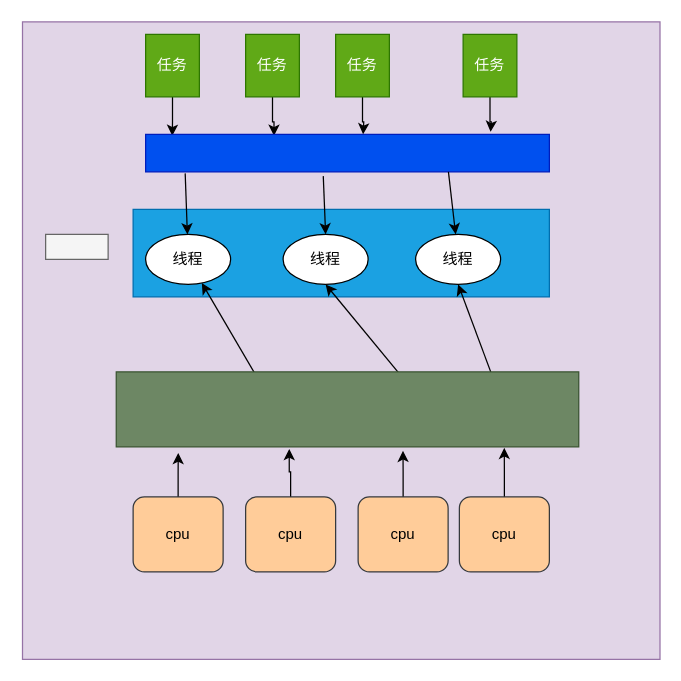
The diagram is 681 pixels wide and 681 high, and some of its shapes have lost their labels. Here are the shapes that lost their labels. From the top down, the box of each, then its label:
(144, 133, 549, 172): Executor框架
(44, 233, 108, 259): 线程池
(115, 371, 579, 447): OS Kernel
